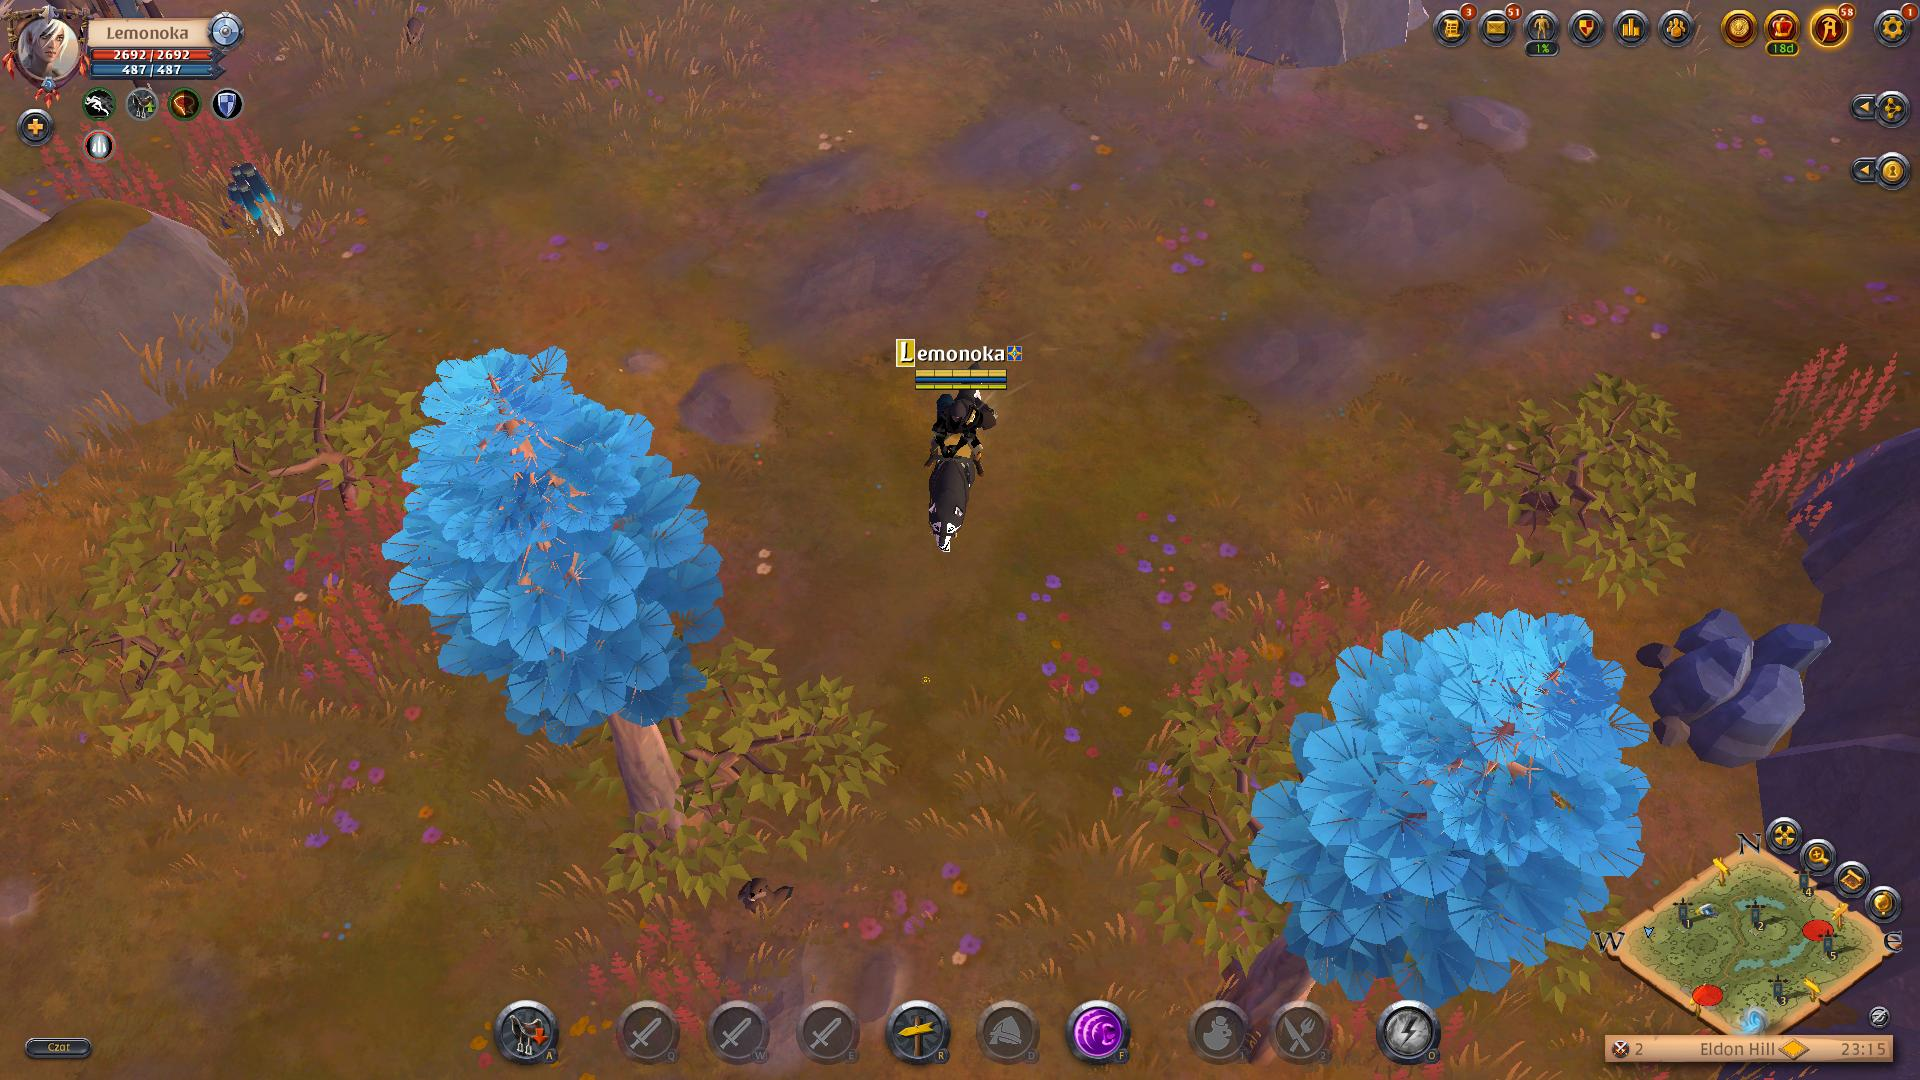ore tier 4: (219, 162, 310, 247)
rock tier 4: (1631, 605, 1836, 773)
wood tier 4: (1253, 607, 1644, 1005), (377, 348, 728, 744)
